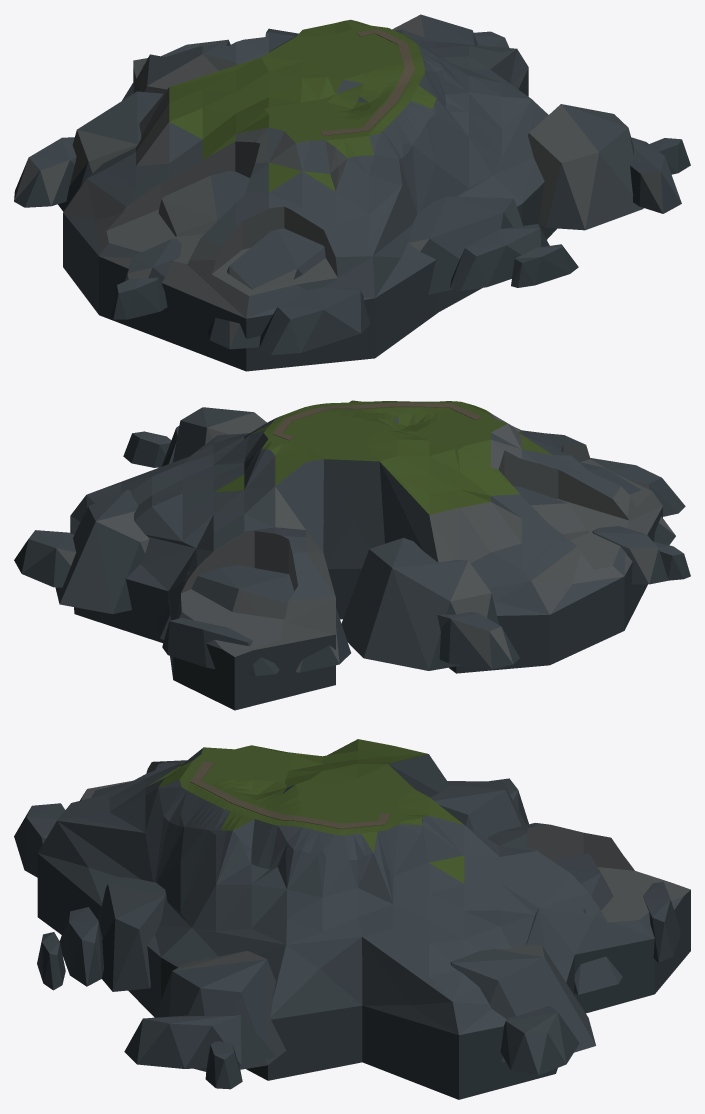
The model's file is island_c.glb.
3 renders of one model, top to bottom at view 1: azimuth 30°, elevation 25°; view 2: azimuth 150°, elevation 25°; view 3: azimuth 270°, elevation 25°, orthographic. The views are drawn at different scales.
Parts seen in each view (by area): view 1: island_c_Coast short olive grass, island_c_Coast blue grey bedrock, island_c_Coast weathered stone footpath; view 2: island_c_Coast short olive grass, island_c_Coast blue grey bedrock, island_c_Coast weathered stone footpath; view 3: island_c_Coast short olive grass, island_c_Coast blue grey bedrock, island_c_Coast weathered stone footpath.
Part boxes in pixels (bbox=[...]): island_c_Coast short olive grass: bbox=[63, 19, 556, 371]; island_c_Coast blue grey bedrock: bbox=[14, 14, 690, 355]; island_c_Coast weathered stone footpath: bbox=[320, 29, 414, 135]; island_c_Coast short olive grass: bbox=[70, 400, 662, 710]; island_c_Coast blue grey bedrock: bbox=[14, 407, 690, 675]; island_c_Coast weathered stone footpath: bbox=[272, 402, 481, 440]; island_c_Coast short olive grass: bbox=[37, 739, 690, 1099]; island_c_Coast blue grey bedrock: bbox=[14, 778, 681, 1089]; island_c_Coast weathered stone footpath: bbox=[190, 761, 390, 828].
Size of the model in its own units: 64.61 by 17.59 by 60.
